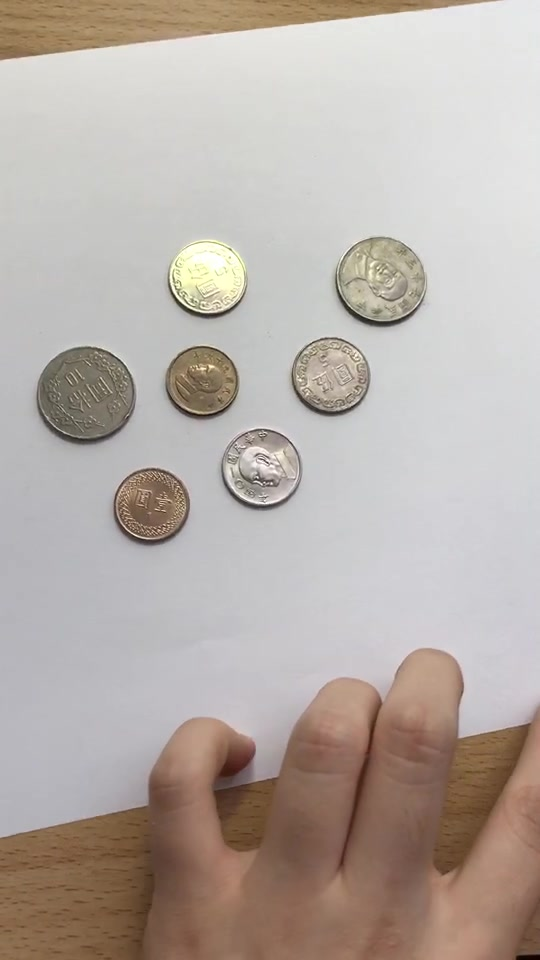1 dallar: (160, 342, 246, 417), (111, 467, 197, 542)
10 dallar: (28, 339, 145, 448), (317, 225, 434, 334)
5 dallar: (162, 225, 255, 328), (210, 420, 303, 523), (280, 329, 377, 417)
